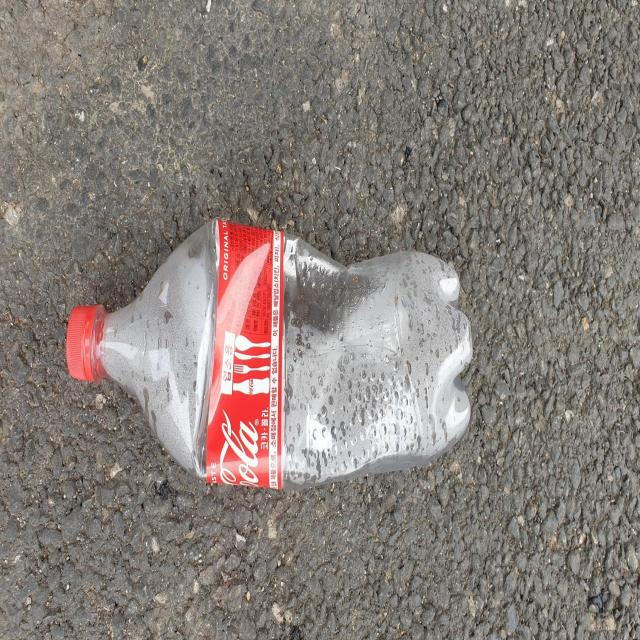plastic: (66, 219, 473, 489)
